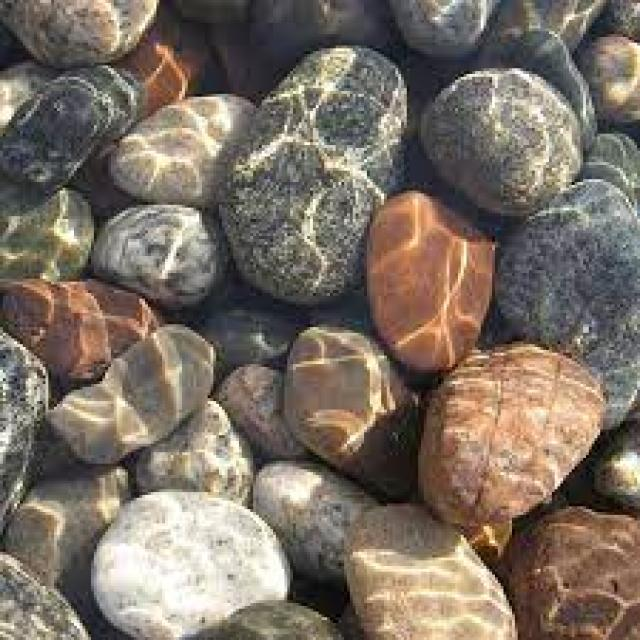stone: (219, 46, 404, 302), (418, 341, 603, 549), (486, 176, 637, 427), (94, 489, 287, 637), (341, 506, 515, 637), (421, 68, 577, 213), (48, 324, 213, 461), (282, 327, 415, 495), (367, 191, 492, 367), (501, 506, 637, 637), (0, 279, 159, 390), (0, 65, 139, 188), (108, 94, 253, 205), (478, 0, 594, 137), (0, 466, 128, 589), (253, 461, 373, 589), (91, 205, 225, 307), (137, 401, 250, 501), (0, 327, 46, 532), (216, 364, 307, 458), (0, 188, 91, 279), (0, 552, 88, 637), (390, 0, 498, 54), (185, 600, 341, 637), (580, 34, 637, 119)
